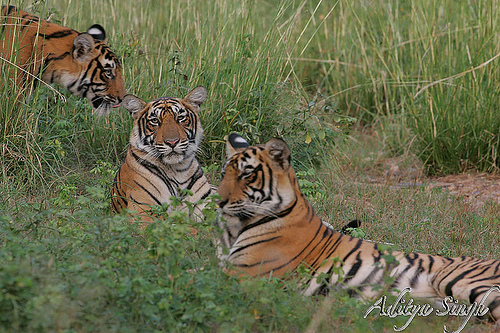Tigre: (210, 126, 348, 292), (105, 88, 215, 222), (14, 11, 139, 118)
